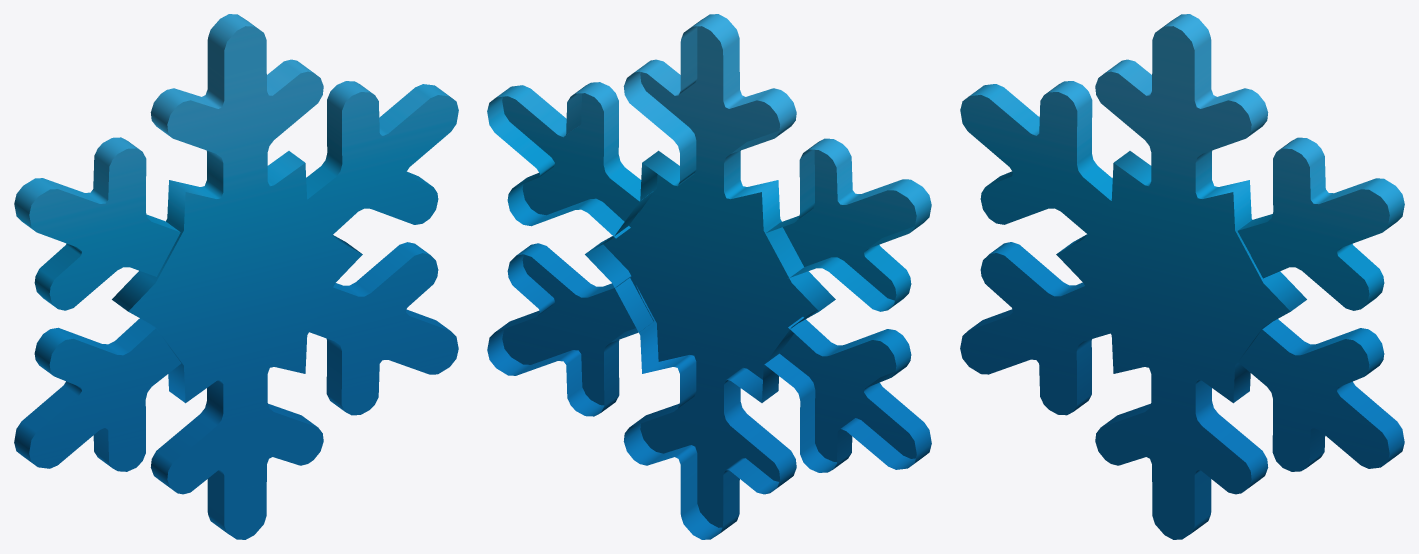
The model's file is Snowflake.fbx.
3 views of the same model, side by side, from view 1: azimuth 30°, elevation 25°; view 2: azimuth 150°, elevation 25°; view 3: azimuth 330°, elevation 25° (orthographic).
Parts seen in each view (by area): view 1: Snowflake; view 2: Snowflake; view 3: Snowflake.
Boxes of the visible parts, x1,y1,x2,y2 form: Snowflake: (14, 14, 458, 539); Snowflake: (487, 14, 931, 539); Snowflake: (960, 14, 1404, 539).
Size of the model in its own units: 115 by 131 by 7.66.
